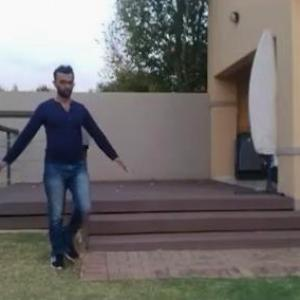land: (0, 63, 128, 270)
